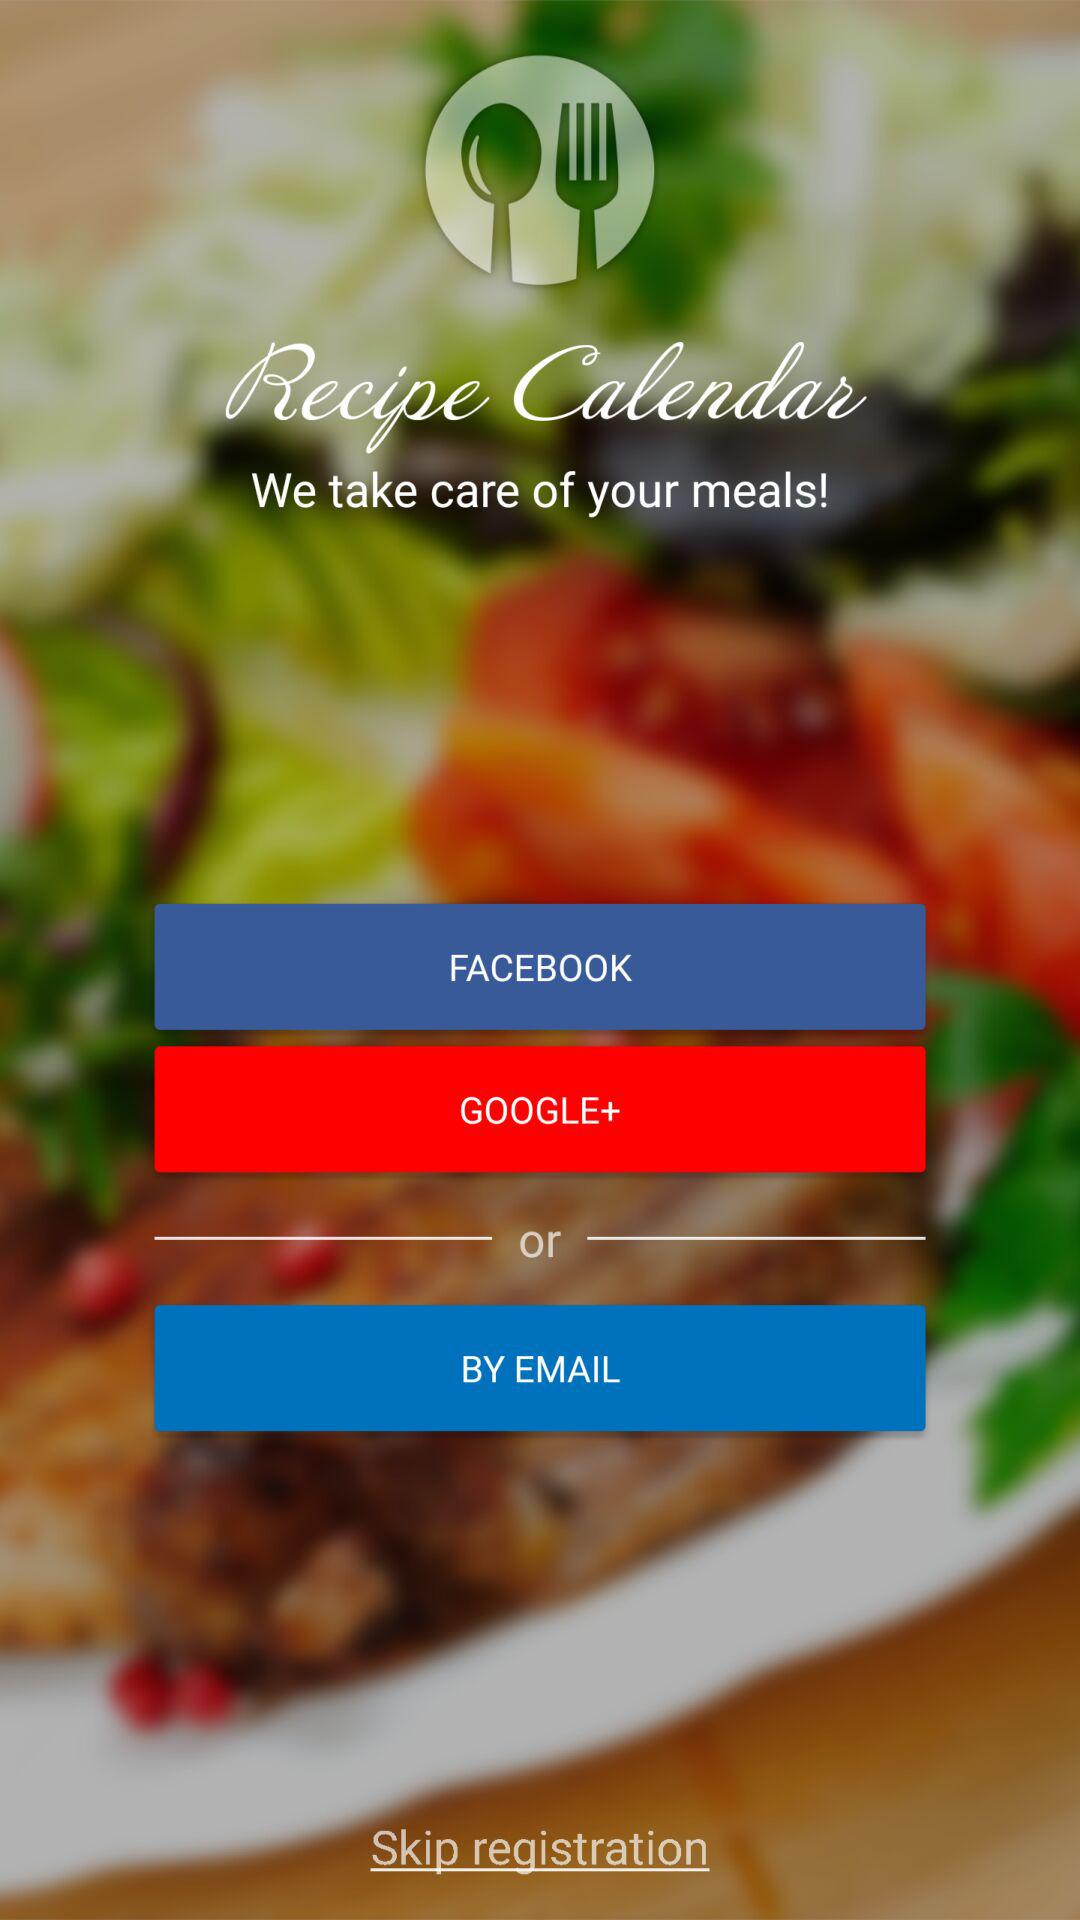BackgroundImage: (1, 3, 1080, 1920)
Image: (425, 55, 655, 286)
Text: (225, 342, 868, 456), (251, 469, 828, 521), (368, 1826, 711, 1876), (520, 1230, 563, 1261)
TextButton: (154, 1046, 927, 1174), (154, 1305, 927, 1432), (154, 905, 926, 1031)
